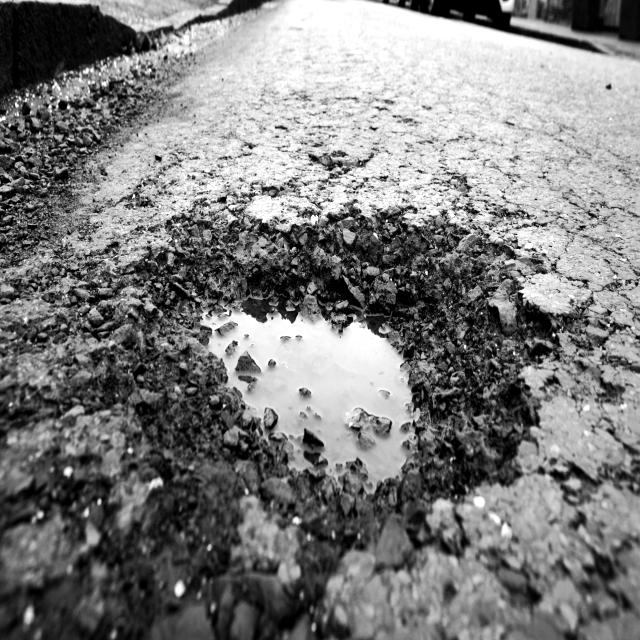pathole: (50, 101, 535, 637), (205, 309, 411, 484)
